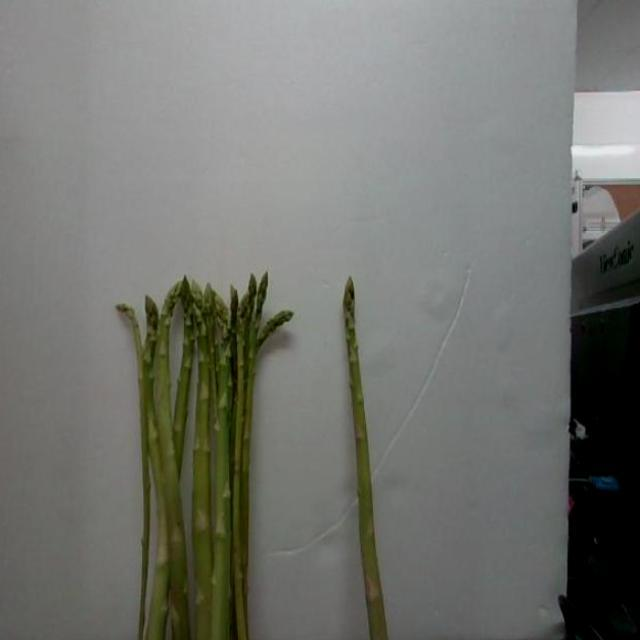aspargus: (343, 279, 391, 640)
